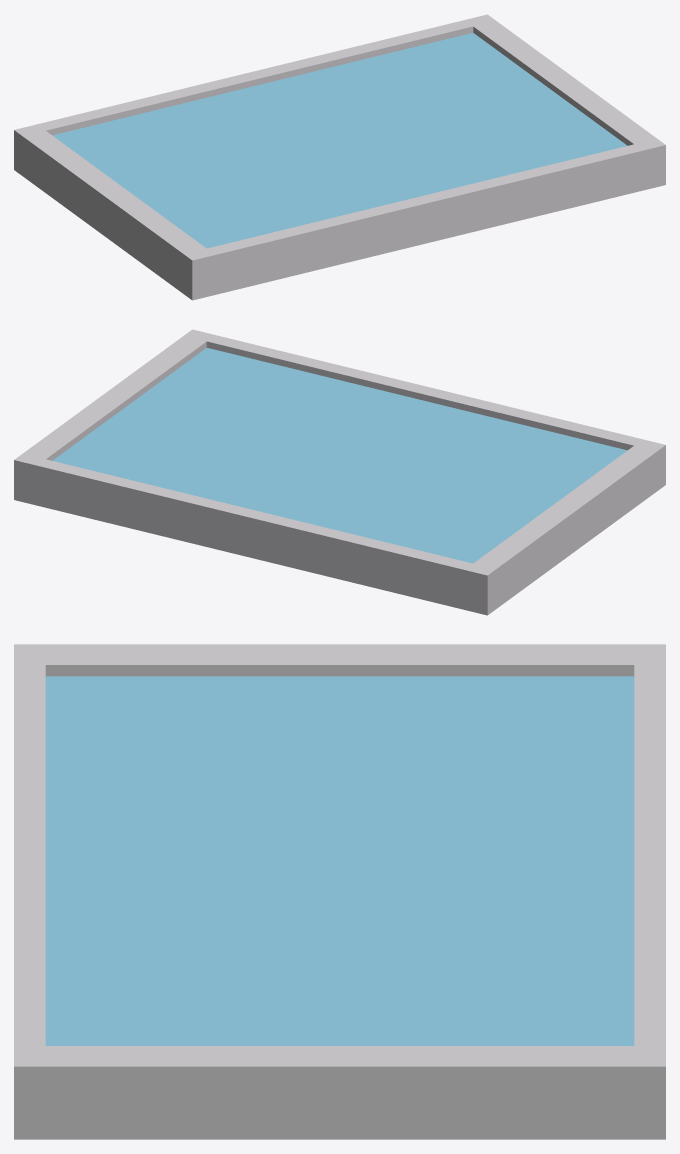
3 views of the same model, one above another, from view 1: azimuth 30°, elevation 25°; view 2: azimuth 150°, elevation 25°; view 3: azimuth 270°, elevation 25° (orthographic). The views are drawn at different scales.
Parts seen in each view (by area): view 1: 水面, プール; view 2: 水面, プール; view 3: 水面, プール.
Part boxes in pixels (x1=…): 水面: x1=52, y1=33, x2=627, y2=248; プール: x1=14, y1=14, x2=665, y2=300; 水面: x1=52, y1=348, x2=627, y2=563; プール: x1=14, y1=329, x2=665, y2=615; 水面: x1=45, y1=676, x2=634, y2=1045; プール: x1=14, y1=644, x2=665, y2=1139.
Size of the model in its own units: 4317 by 348 by 2818.
